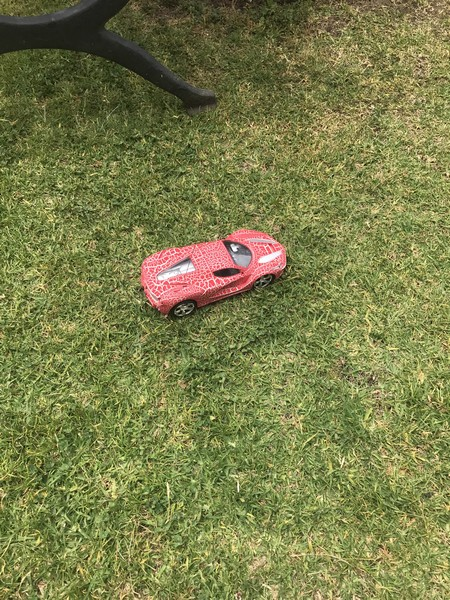RC: (139, 227, 292, 318)
